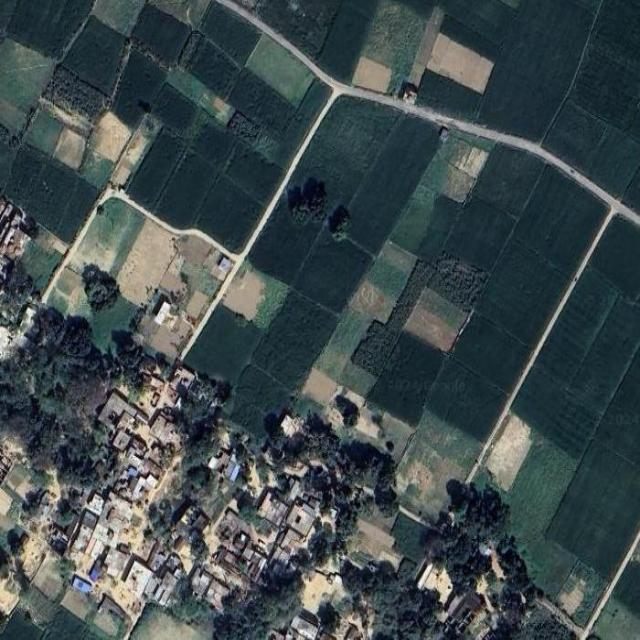land-Sx1C: (479, 3, 593, 140), (546, 443, 640, 576), (349, 116, 439, 252), (291, 97, 400, 206), (514, 166, 605, 274), (351, 260, 433, 376), (396, 410, 481, 521), (570, 0, 640, 132), (478, 243, 566, 345), (5, 145, 98, 241), (538, 270, 616, 383), (502, 432, 578, 544), (569, 299, 640, 416), (253, 292, 338, 389), (369, 331, 444, 426), (353, 0, 426, 93), (514, 371, 595, 454), (255, 80, 330, 168), (427, 359, 505, 440), (294, 231, 371, 312), (185, 305, 262, 383), (70, 199, 145, 277), (454, 314, 529, 391), (250, 201, 320, 283), (0, 39, 54, 134), (595, 352, 640, 465), (116, 219, 175, 305), (246, 33, 314, 107), (445, 198, 514, 270), (62, 16, 125, 94), (474, 145, 544, 215), (319, 0, 378, 82), (198, 176, 262, 251), (7, 0, 91, 57), (258, 0, 341, 57), (127, 131, 185, 209), (156, 153, 215, 227), (426, 33, 494, 94), (315, 310, 373, 381), (230, 70, 295, 133), (545, 103, 606, 169), (591, 218, 640, 299), (113, 51, 165, 127), (582, 128, 640, 196), (427, 253, 489, 312), (202, 3, 260, 65), (521, 539, 578, 600), (486, 414, 531, 491), (442, 0, 516, 46), (226, 142, 281, 203), (555, 561, 606, 626), (133, 6, 191, 63), (355, 406, 415, 461), (390, 185, 438, 253), (44, 67, 105, 120), (418, 70, 481, 120), (416, 195, 462, 260), (409, 6, 444, 86), (190, 41, 239, 96), (129, 608, 213, 640), (440, 16, 499, 61), (91, 297, 138, 353), (404, 305, 458, 352), (110, 128, 153, 187), (235, 365, 290, 411), (41, 606, 110, 640), (153, 84, 196, 136), (222, 270, 265, 320), (20, 240, 62, 291), (147, 315, 193, 360), (253, 275, 290, 330), (593, 597, 640, 640), (91, 112, 131, 162), (349, 281, 395, 323), (420, 289, 467, 330), (302, 571, 346, 614), (93, 0, 145, 36), (18, 584, 59, 629), (193, 124, 234, 167), (149, 0, 209, 29), (26, 109, 62, 153), (367, 263, 407, 301), (31, 551, 62, 600), (613, 561, 640, 616), (418, 563, 453, 604), (167, 68, 207, 103), (54, 126, 86, 169), (94, 596, 127, 637), (302, 368, 338, 405), (353, 57, 391, 92), (230, 400, 265, 437), (182, 262, 220, 296), (0, 610, 42, 640), (380, 241, 416, 275), (442, 166, 475, 203), (81, 151, 113, 188), (454, 147, 489, 179), (60, 587, 91, 621), (178, 235, 213, 265), (358, 520, 395, 548), (419, 157, 447, 193), (229, 112, 262, 142), (353, 531, 386, 559), (438, 137, 471, 164), (396, 0, 438, 20), (0, 574, 20, 615), (1, 137, 16, 190), (624, 167, 640, 212), (186, 289, 209, 320), (160, 272, 186, 297), (56, 269, 80, 295), (138, 314, 158, 345), (213, 97, 235, 124), (47, 288, 69, 315), (140, 113, 162, 139), (0, 0, 16, 34), (6, 465, 27, 490), (570, 0, 601, 15), (0, 487, 13, 516), (629, 109, 640, 141), (14, 480, 31, 500), (51, 237, 69, 254)
